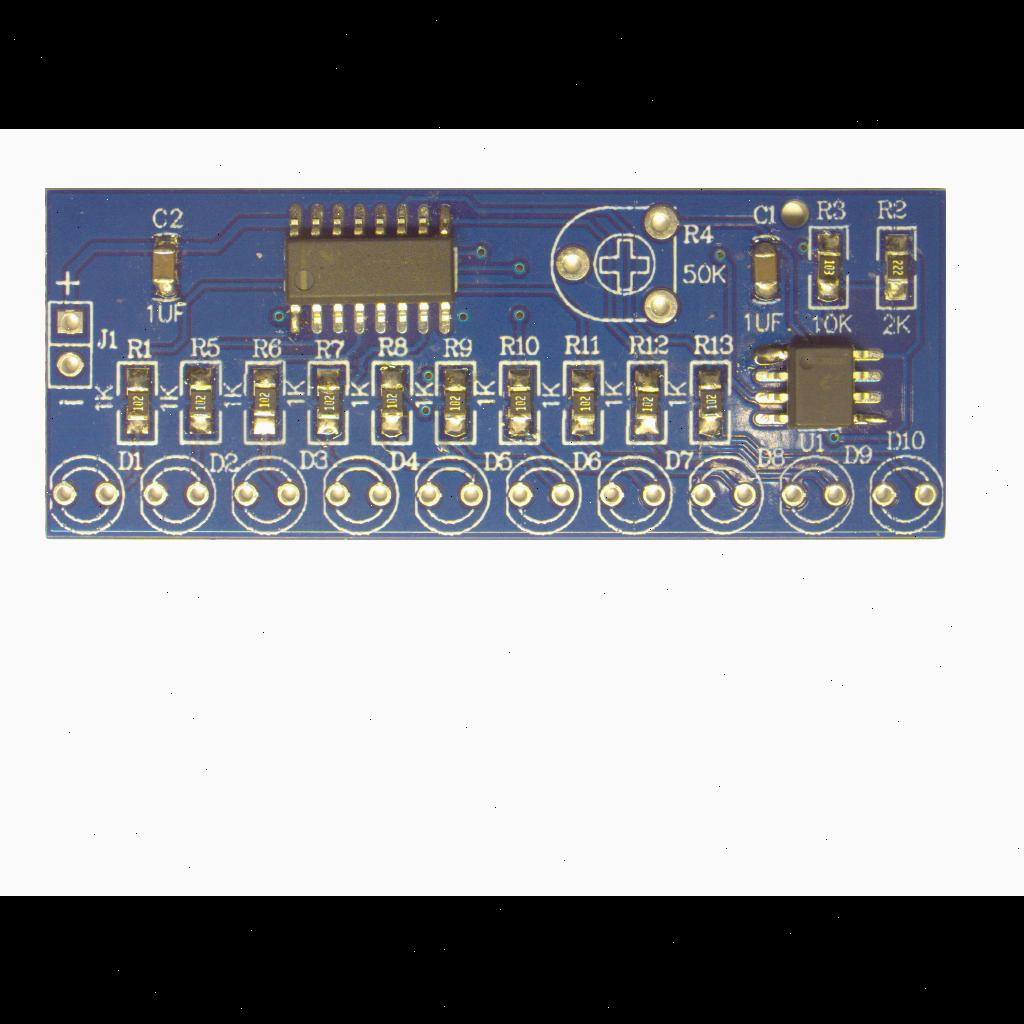OK: (278, 196, 466, 344), (748, 336, 896, 436), (242, 356, 290, 446), (304, 358, 352, 446), (495, 358, 543, 446), (178, 358, 224, 446), (559, 357, 605, 445), (370, 357, 416, 445), (114, 359, 160, 445), (624, 360, 670, 446), (688, 360, 734, 446), (874, 225, 920, 309), (806, 224, 852, 308), (432, 359, 478, 443), (747, 228, 787, 306), (148, 230, 184, 304)
